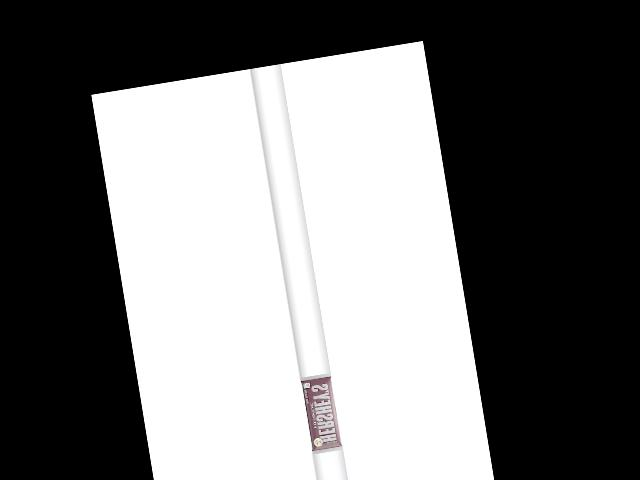chocolate: (296, 373, 341, 453)
